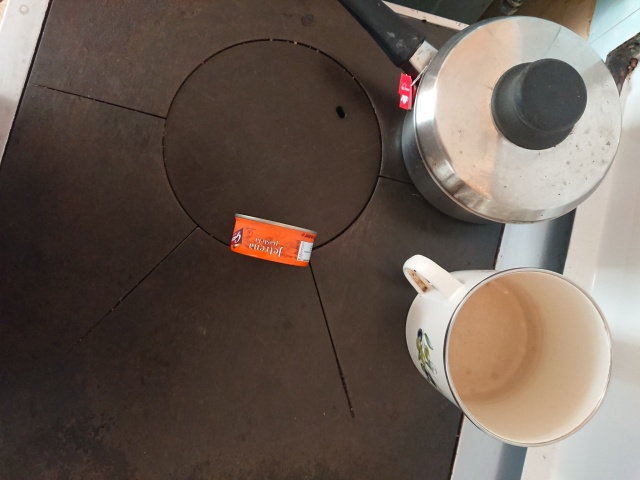Gavrilovic Pork Liver Pate 100g: (228, 211, 320, 268)
